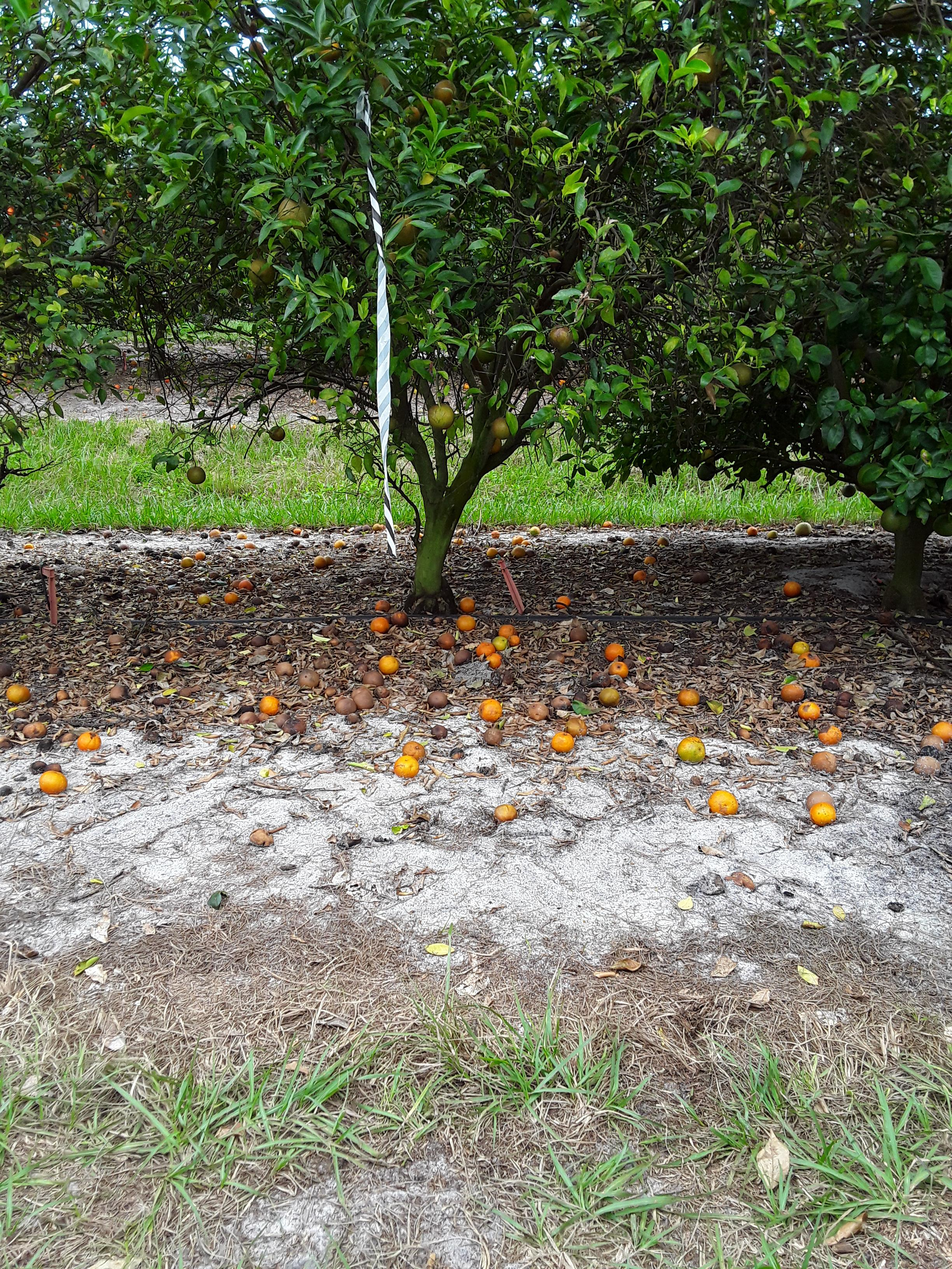fruit_on_ground: (679, 44, 724, 87), (878, 2, 922, 40), (784, 123, 824, 162), (275, 195, 314, 231), (384, 212, 419, 246), (878, 502, 911, 533), (426, 401, 457, 432), (245, 257, 277, 287), (430, 75, 460, 105), (698, 124, 729, 153), (315, 37, 346, 66), (726, 359, 756, 388), (545, 323, 575, 352), (512, 4, 544, 31), (425, 35, 455, 62), (397, 101, 424, 128), (472, 338, 499, 364), (366, 71, 394, 96), (776, 219, 804, 244), (930, 507, 952, 537), (572, 20, 600, 43), (489, 414, 513, 440), (541, 243, 565, 267), (246, 37, 269, 59), (878, 229, 900, 250), (481, 435, 503, 456), (186, 464, 207, 485), (693, 443, 715, 463), (695, 462, 716, 482), (686, 448, 708, 467), (836, 481, 857, 500), (268, 424, 287, 442), (618, 430, 635, 447), (3, 202, 18, 217), (460, 378, 474, 392)
fruit_on_tree: (807, 795, 837, 829), (676, 735, 707, 765), (707, 788, 740, 816), (37, 768, 68, 795), (810, 750, 838, 776), (479, 698, 505, 723), (76, 728, 101, 753), (550, 730, 576, 754), (394, 755, 420, 779), (4, 681, 31, 704), (564, 713, 590, 736), (817, 724, 844, 746), (915, 756, 941, 778), (492, 802, 518, 824), (296, 666, 321, 688), (796, 699, 822, 720), (525, 699, 550, 720), (352, 685, 374, 708), (929, 720, 952, 742), (250, 827, 274, 848), (401, 738, 425, 759), (597, 686, 620, 707), (677, 686, 700, 707), (378, 654, 400, 675), (607, 658, 630, 678), (427, 689, 450, 709), (780, 681, 803, 701), (603, 641, 626, 661), (454, 613, 478, 632), (335, 694, 356, 715), (259, 694, 280, 715), (781, 578, 803, 598), (23, 720, 47, 738), (369, 614, 390, 634), (483, 727, 505, 746), (237, 710, 261, 727), (290, 715, 311, 734), (388, 609, 409, 628), (817, 634, 839, 652), (452, 647, 474, 665), (921, 734, 944, 751), (274, 659, 294, 678), (875, 608, 896, 626), (107, 683, 128, 701), (362, 669, 383, 687), (436, 632, 456, 650), (568, 624, 588, 642), (590, 670, 611, 687), (497, 623, 518, 640), (759, 618, 780, 635), (550, 694, 572, 710), (474, 640, 493, 658), (313, 652, 333, 669), (429, 723, 449, 740), (29, 757, 50, 773), (163, 647, 184, 663), (0, 659, 17, 678), (50, 686, 69, 703), (794, 520, 813, 537), (458, 595, 477, 612), (791, 639, 810, 656), (236, 576, 255, 592), (820, 676, 840, 691), (803, 653, 823, 668), (691, 569, 711, 584), (492, 634, 510, 650), (554, 593, 572, 609), (177, 682, 196, 697), (148, 666, 167, 681), (250, 632, 269, 647), (268, 631, 285, 647), (836, 689, 854, 704), (775, 632, 793, 647), (373, 598, 392, 612), (487, 652, 503, 668), (371, 682, 388, 697), (756, 635, 773, 650), (223, 590, 240, 605), (312, 554, 329, 568), (196, 592, 211, 607), (345, 711, 361, 725), (510, 545, 526, 559), (632, 568, 648, 582), (507, 634, 522, 648), (511, 533, 527, 546), (737, 726, 752, 739), (321, 684, 336, 697), (11, 604, 25, 617), (485, 546, 499, 559), (21, 540, 36, 552), (242, 539, 257, 551), (179, 556, 194, 568), (645, 571, 658, 584), (528, 526, 541, 539), (193, 548, 206, 561), (655, 535, 669, 547), (621, 535, 635, 547), (765, 527, 778, 539), (746, 525, 759, 537), (287, 538, 301, 549), (644, 554, 656, 566), (372, 521, 385, 532), (333, 538, 346, 549), (208, 528, 222, 538), (600, 520, 614, 530), (490, 529, 502, 540), (291, 526, 304, 536), (237, 530, 249, 540), (112, 381, 121, 391)
